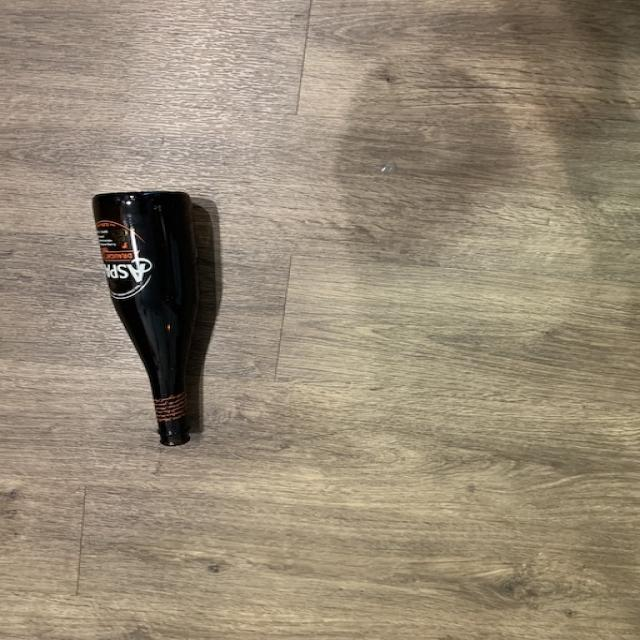Glass Bottle: (87, 192, 205, 456)
